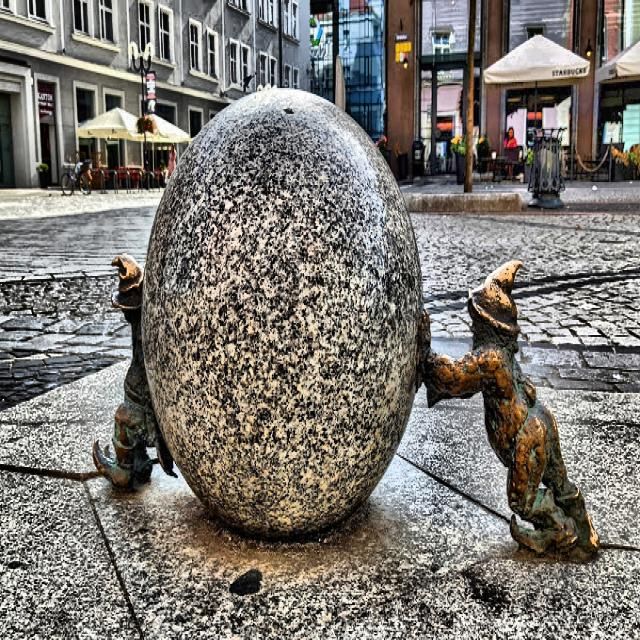Syzyfki: (81, 76, 608, 571)
